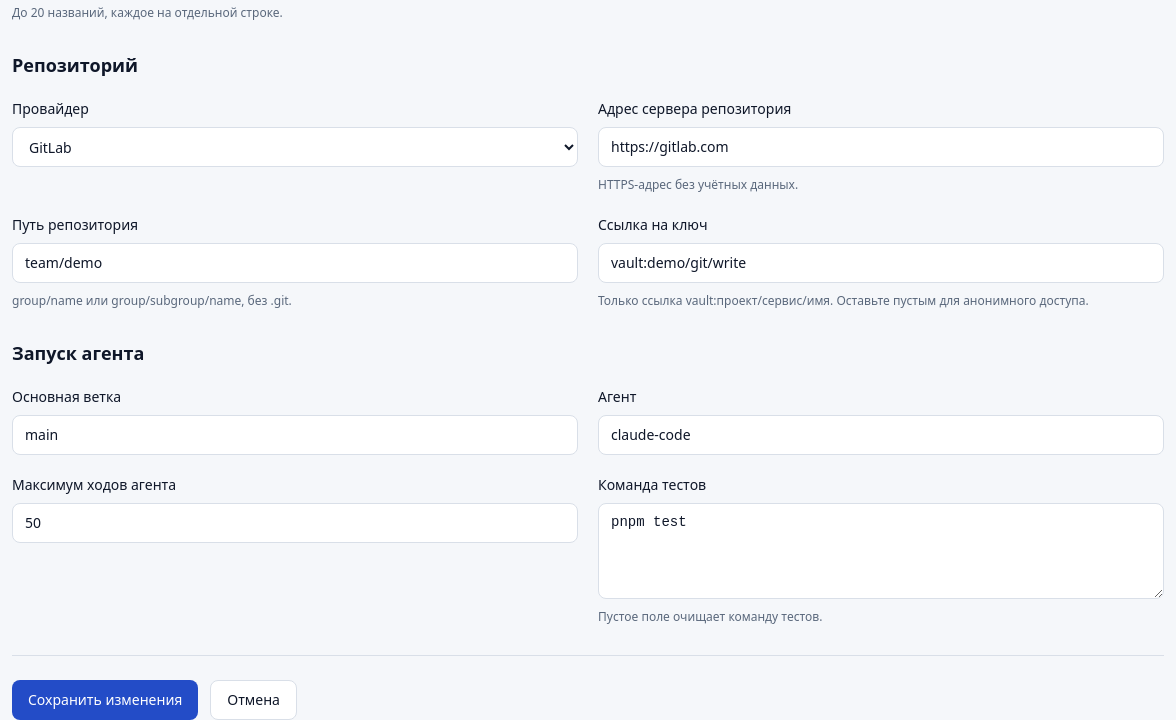
Форма проекта › показывает понятную ошибку project_disabled
The width and height of the screenshot is (1176, 720).
(page scrolled)
Click the button "Сохранить изменения". click: (105, 700)
box: left=12, top=680, right=198, bottom=719
(page scrolled)
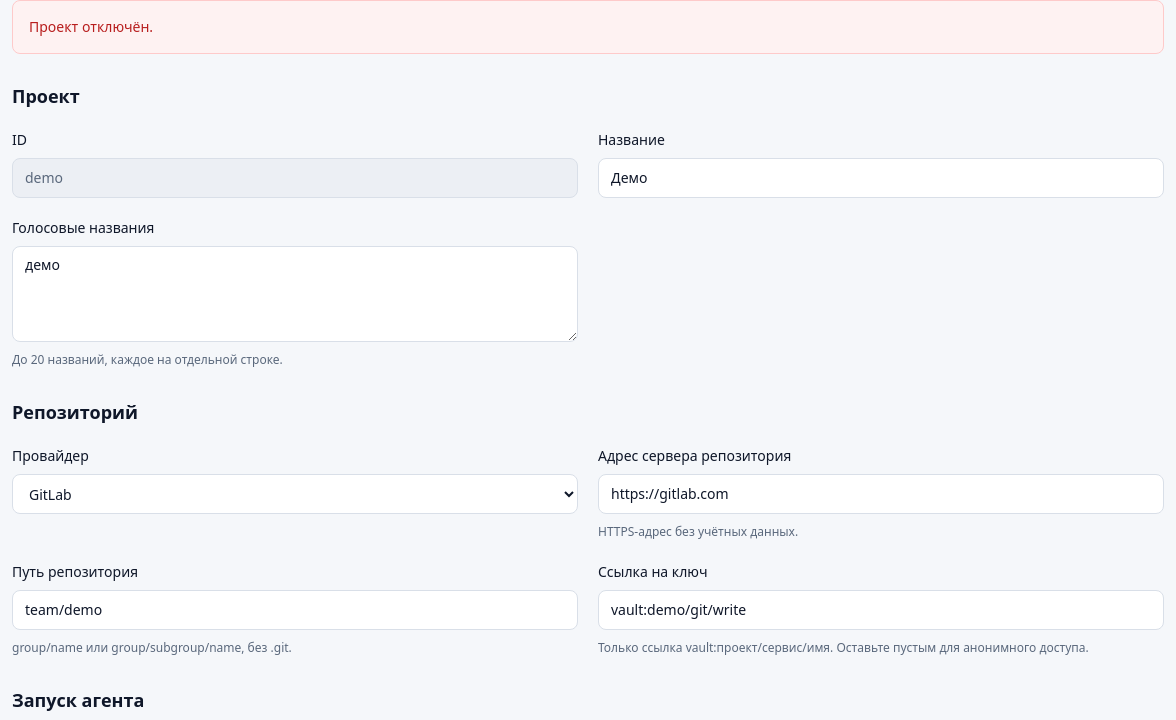
Expected: the message reads "Проект отключён.", left=29, top=17, right=153, bottom=36
